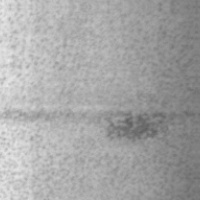pitted_surface: (0, 9, 195, 199)
